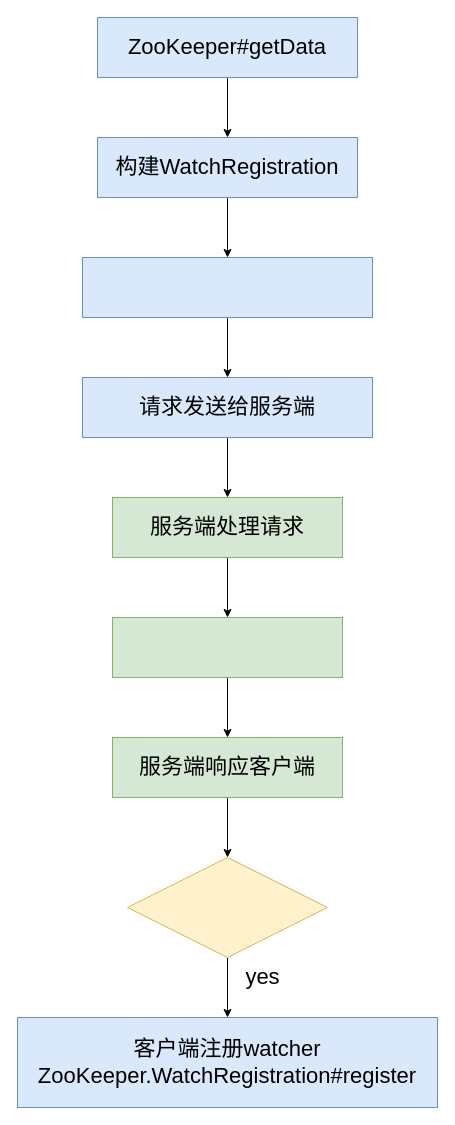
This 455x1125 diagram has some shape labels left out. Here are the shapes that lost their labels. From the top down, the centre of each, then its label:
At [227,287]: "在请求体中标记watch=true".
At [227,647]: "服务端注册watcher".
At [227,907]: "响应状态码OK".
